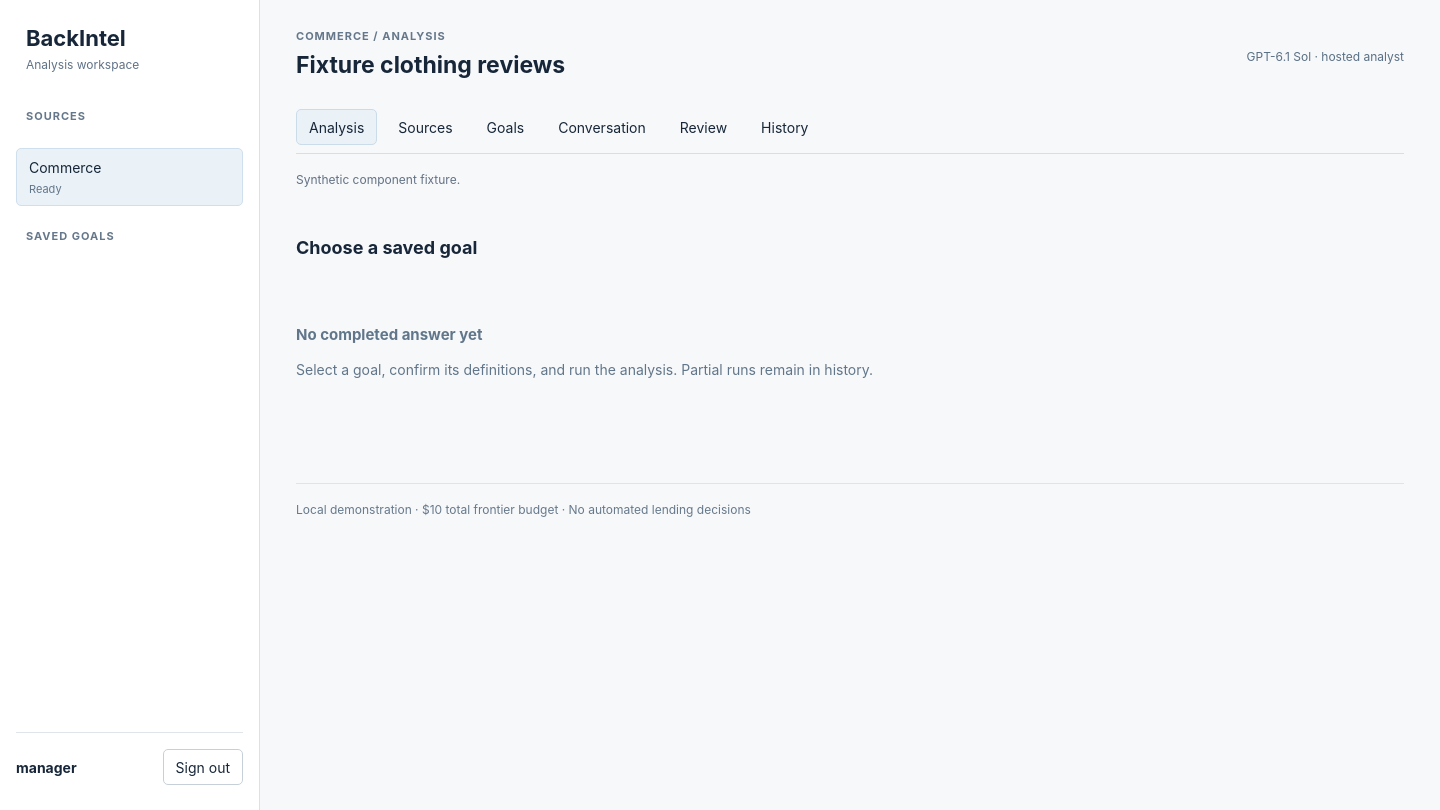
Test: analysis workspace user controls › keeps a newly proposed goal selected when an older refresh finishes later
This screenshot has width=1440, height=810.
Check: the heading "Fixture clothing reviews" is shown, box [296,51,565,80]
Click the button "Goals" at (505, 128), box [474,110,537,146]
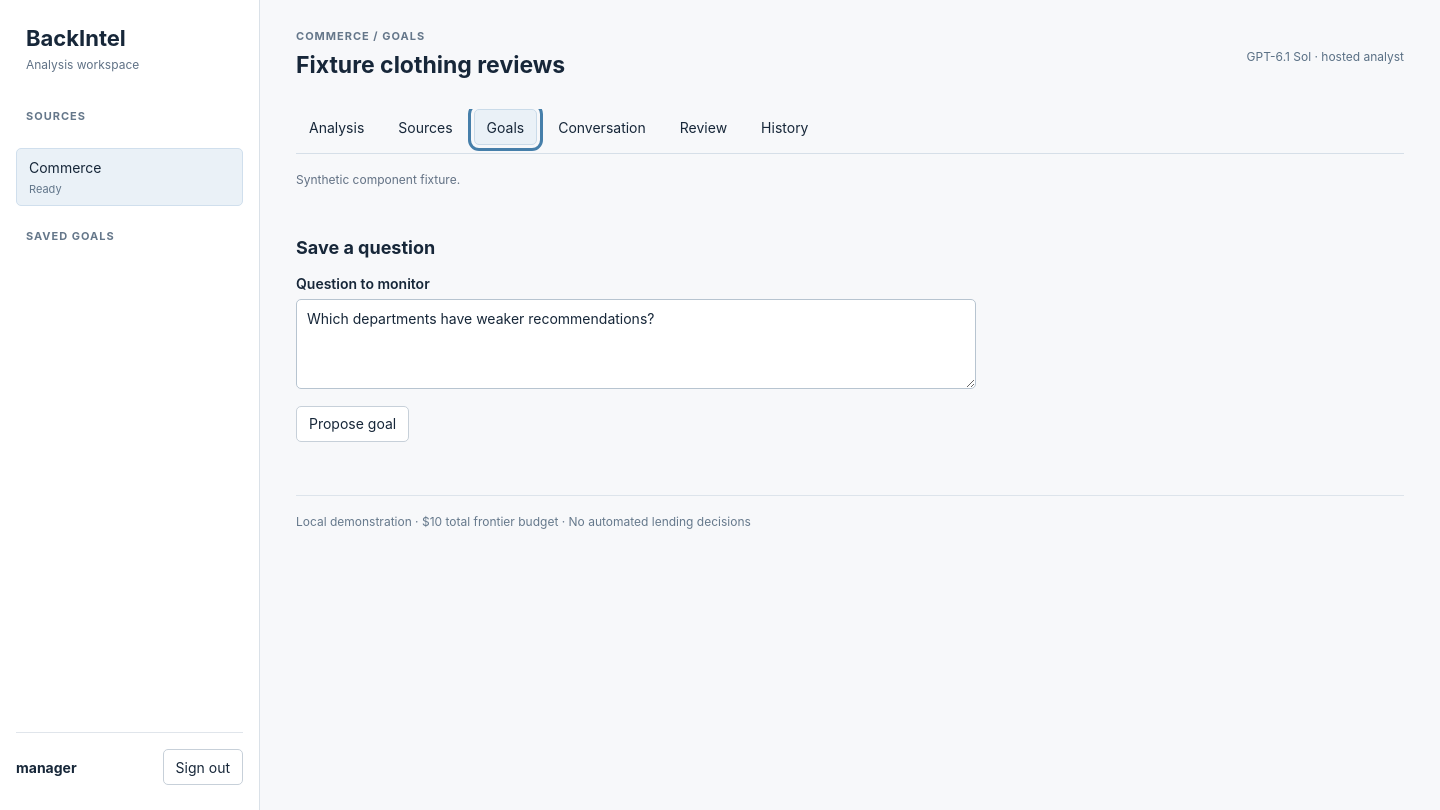
Click the button "Propose goal" at (353, 424), box [296,406,409,442]
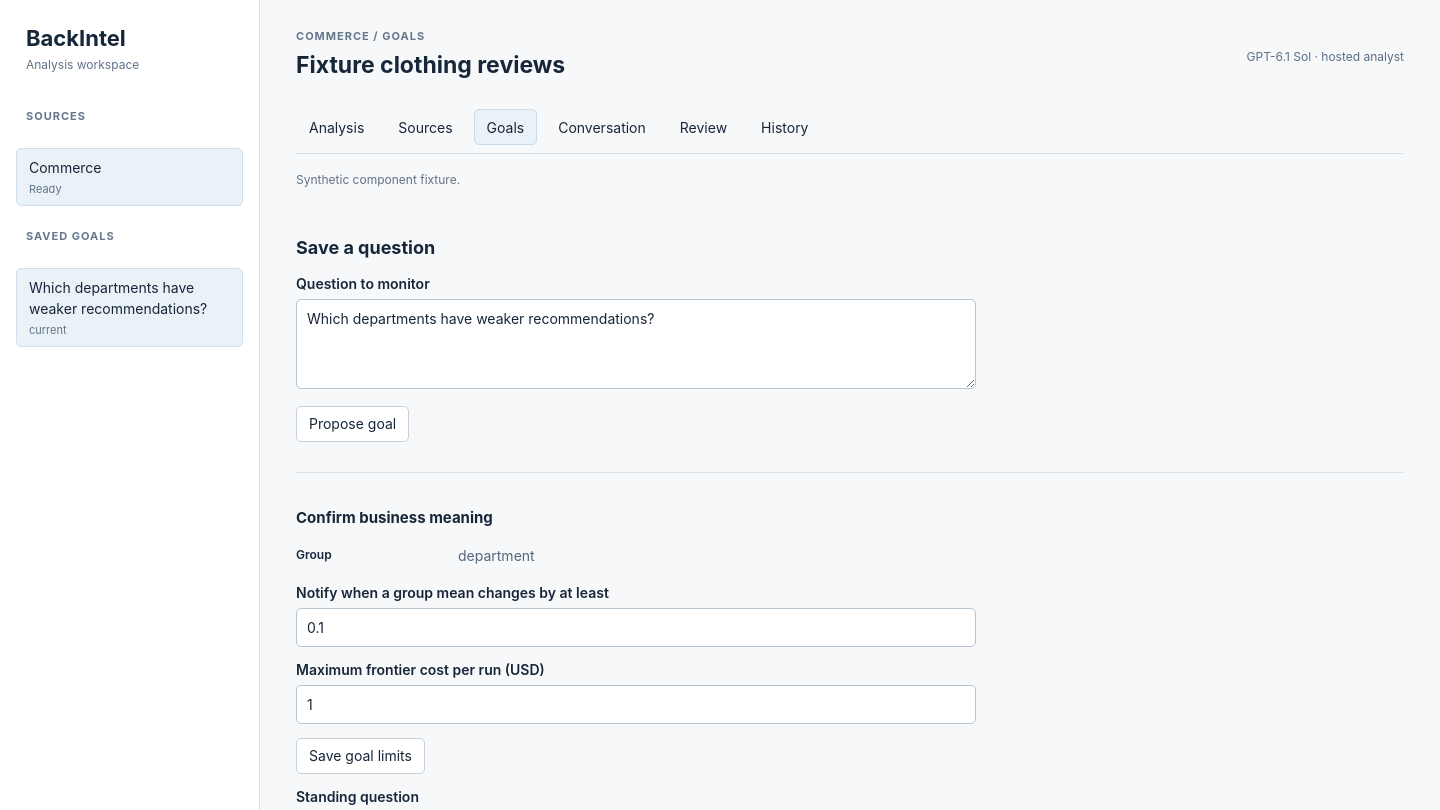
Check: the heading "Confirm business meaning" is shown, box [296,508,493,527]
